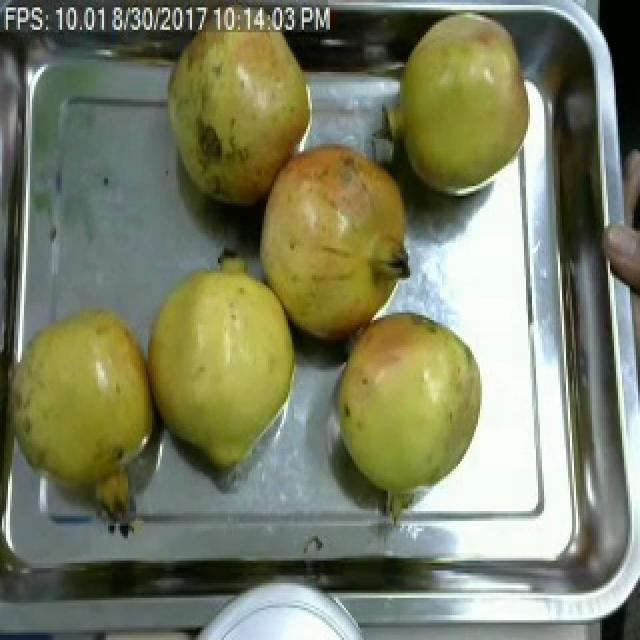fruit: (140, 243, 308, 476), (252, 134, 418, 345), (330, 300, 490, 516), (2, 293, 160, 501), (160, 12, 320, 216), (382, 5, 538, 208)
